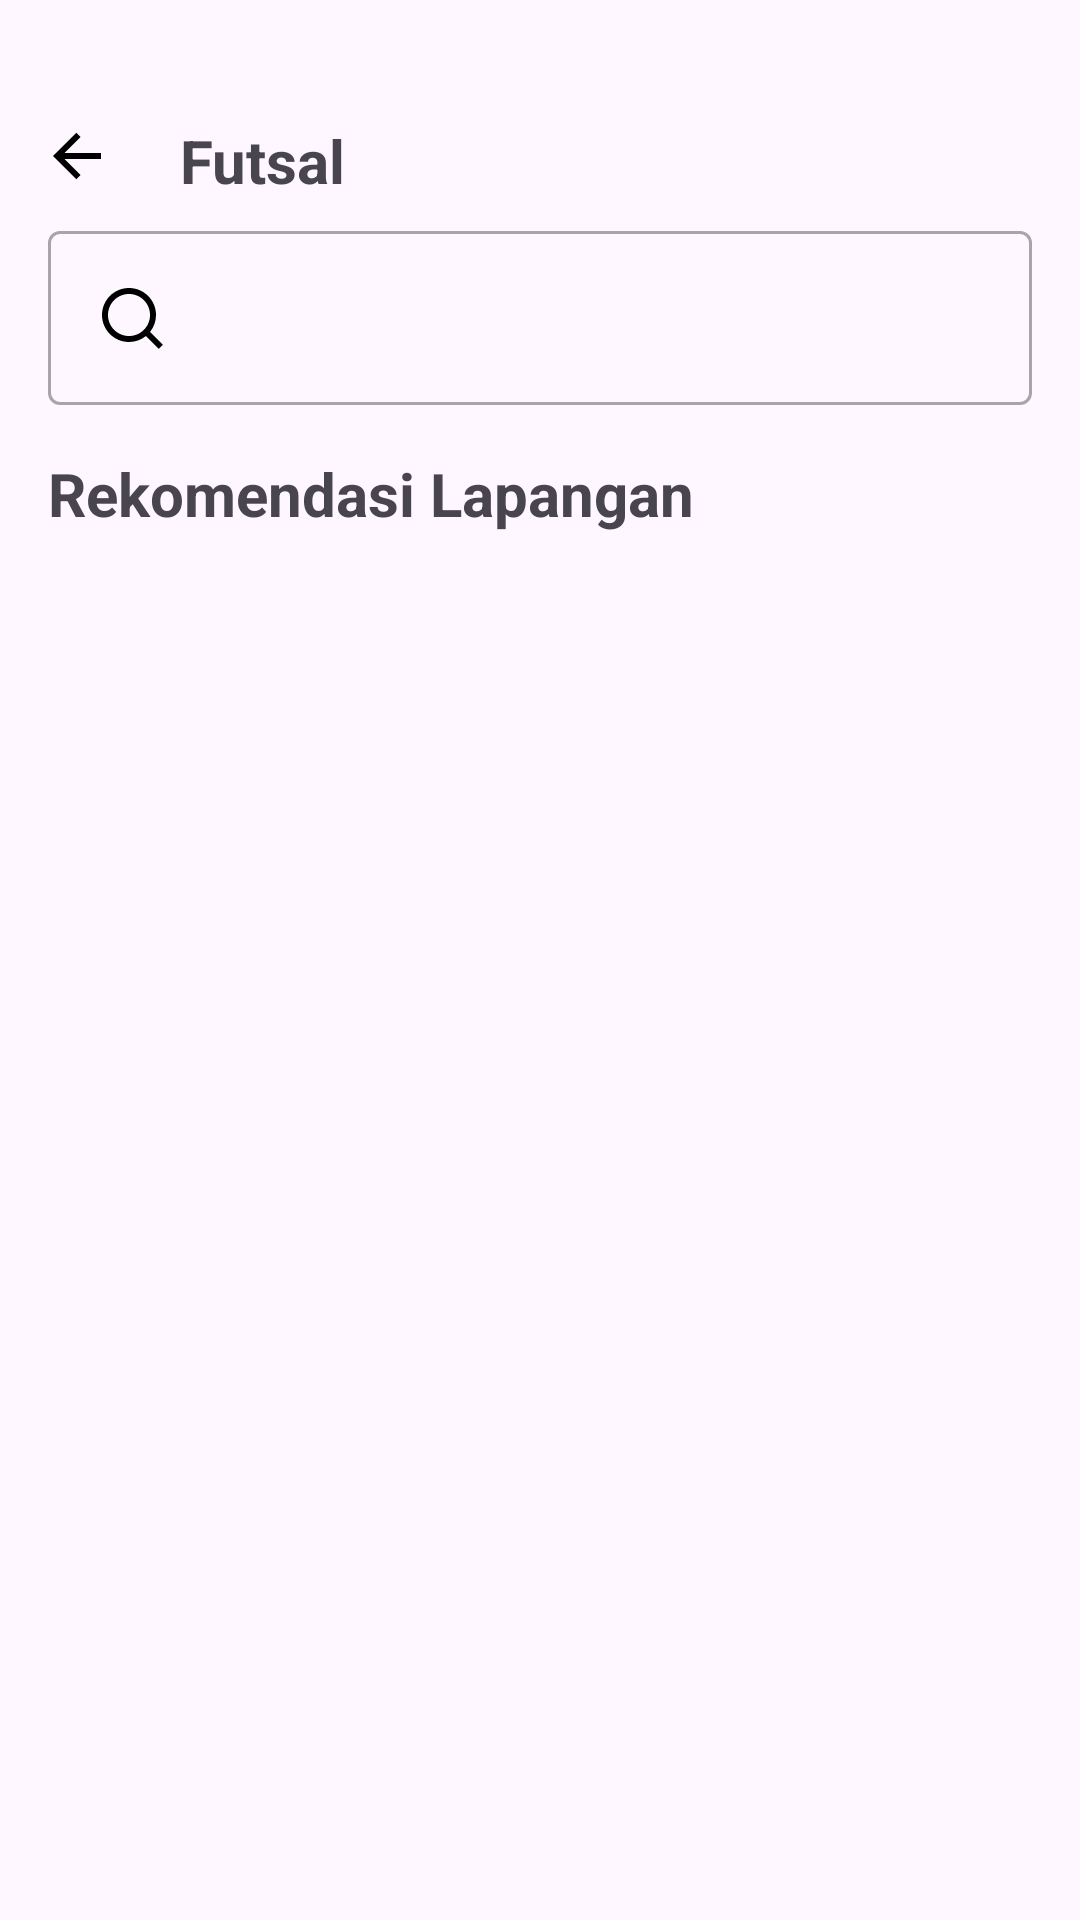

Screen size 1080 x 1920. Icon name, then its center in pixels as (x=x, y=y):
back: (x=77, y=156)
